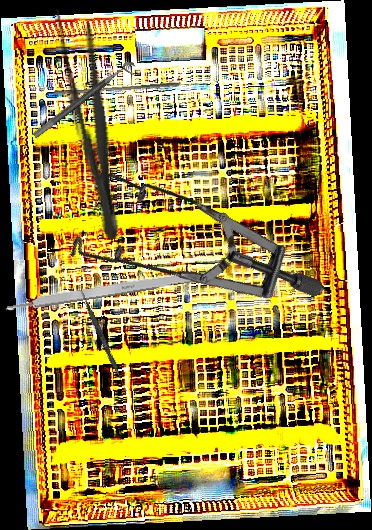Dressing Forceps: (49, 2, 134, 244)
Fixation Ring: (31, 58, 142, 148)
Pusher: (52, 77, 182, 100)
Scalpel Handle: (1, 264, 221, 314)
Spatula Surgical: (77, 289, 131, 395)
Speculum: (41, 106, 326, 400)
